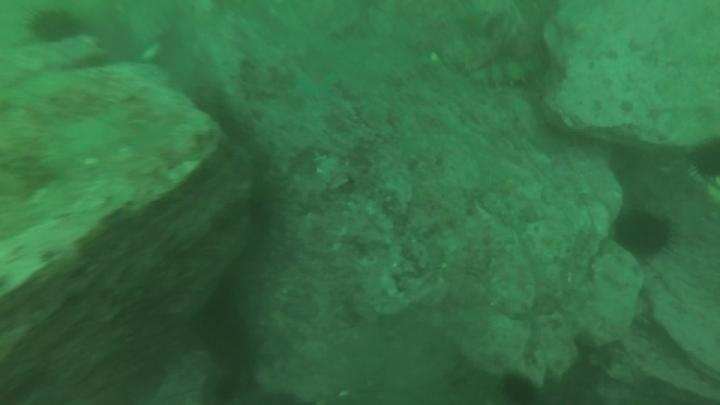echinus: (611, 205, 675, 261), (24, 6, 87, 47), (689, 134, 720, 182), (497, 371, 540, 404)
holothurian: (467, 55, 541, 92)
starfish: (287, 63, 339, 103)
